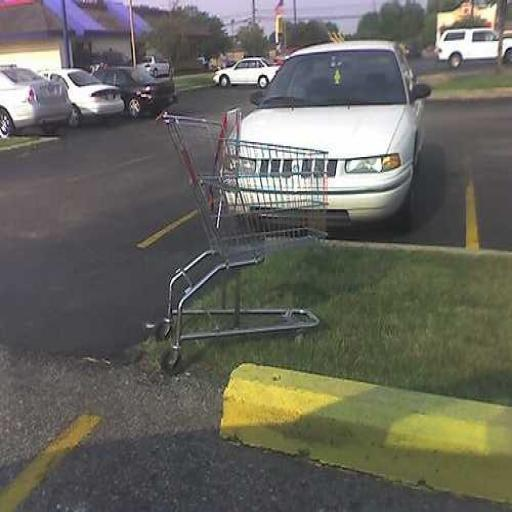shopping_cart: (154, 106, 330, 372)
